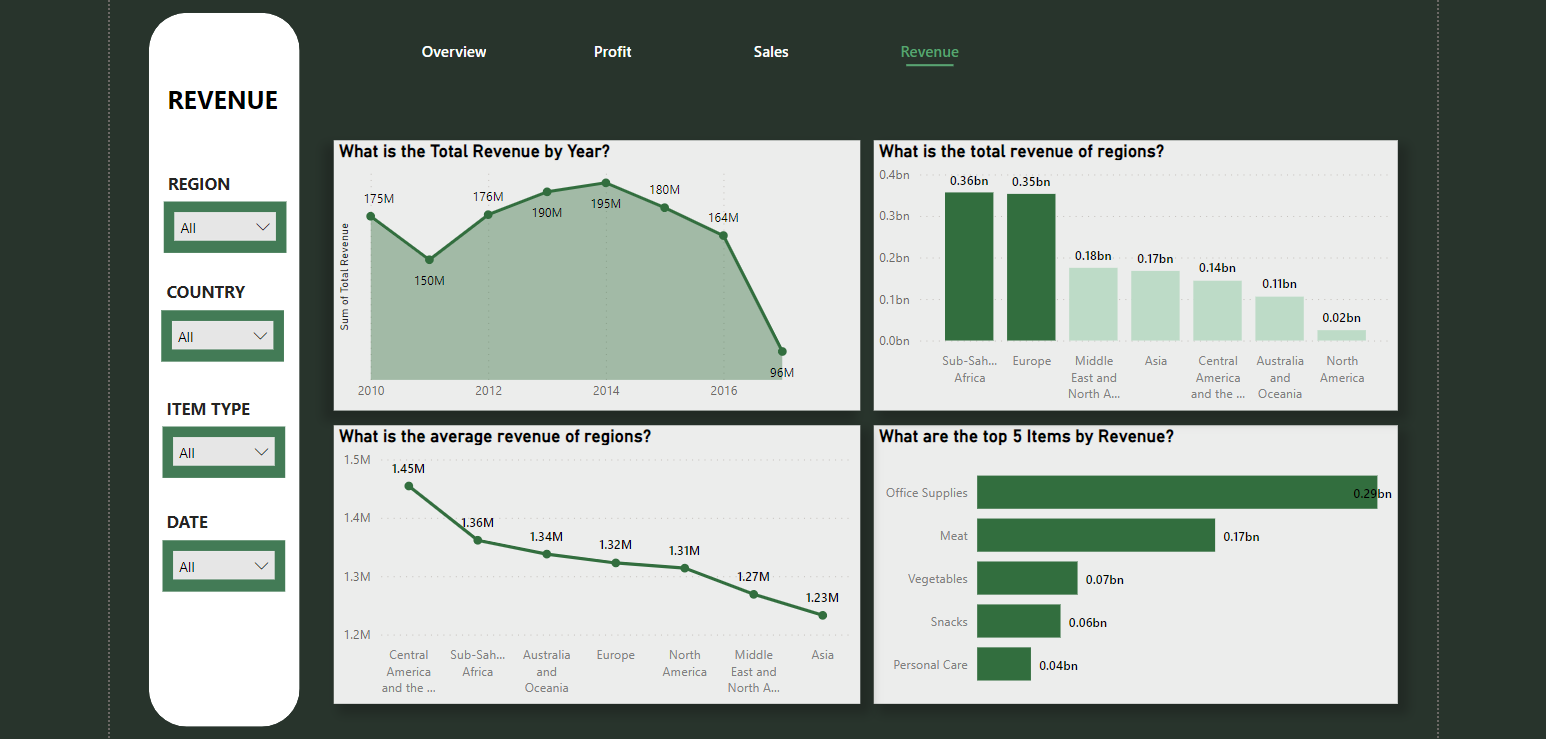

What the dashboard file says about the page in this screenshot:
{"tool":"powerbi","page":{"name":"Revenue","canvas":[1280,720],"ordinal":3},"visuals":[{"type":"pageNavigator","box":[260.7,38.4,603.8,32.9],"z":0},{"type":"shape","box":[768.4,54.9,45.3,26.1],"z":1000},{"type":"barChart","title":"What are the top 5 Items by Revenue?","fields":{"Y":["Sum(1000 Sales Records.Total Revenue)"],"Category":["1000 Sales Records.Item Type"]},"box":[736.9,416.1,505.3,268.9],"z":3000},{"type":"areaChart","title":"What is the Total Revenue by Year?","fields":{"Y":["Sum(1000 Sales Records.Total Revenue)"],"Category":["1000 Sales Records.Order Date.Variation.Date Hierarchy.Year"]},"box":[215.9,141.1,507.7,260.5],"z":4000},{"type":"lineStackedColumnComboChart","title":"What is the total revenue of regions?","fields":{"Category":["1000 Sales Records.Region"],"Y":["Sum(1000 Sales Records.Total Revenue)"]},"box":[736.9,141.1,505.3,260.5],"z":5000},{"type":"lineStackedColumnComboChart","title":"What is the average revenue of regions?","fields":{"Category":["1000 Sales Records.Region"],"Y2":["1000 Sales Records.AVERAGE REVENUE"]},"box":[215.9,416.1,507.7,268.9],"z":6000},{"type":"shape","box":[37.4,18.1,145.9,688.6],"z":7000},{"type":"slicer","fields":{"Values":["1000 Sales Records.Region"]},"box":[51.9,200.2,118.2,49.4],"z":8000},{"type":"slicer","fields":{"Values":["1000 Sales Records.Country"]},"box":[49.5,305.6,118,49.4],"z":9000},{"type":"slicer","fields":{"Values":["1000 Sales Records.Item Type"]},"box":[50.9,416.7,118,49.4],"z":10000},{"type":"slicer","fields":{"Values":["Date.Date"]},"box":[50.9,526.5,118,49.4],"z":11000},{"type":"textbox","box":[50.7,166.4,94.1,33.8],"z":12000},{"type":"textbox","box":[49.4,271.4,94.1,33.8],"z":13000},{"type":"textbox","box":[49.4,383.5,117,33.8],"z":14000},{"type":"textbox","box":[49.4,493.3,117,33.8],"z":15000},{"type":"textbox","box":[1.2,80.8,214.7,42.2],"z":15001}]}

Visuals, with their boxes on the page's 1280x720 design canvas (x1, y1, x2, y2). These are canvas units, not pixel positions in the 1546x739 screenshot, which may show the page scaled, cropped or inside an application window:
pageNavigator: detection(261, 38, 864, 71)
shape: detection(768, 55, 814, 81)
"What are the top 5 Items by Revenue?" barChart: detection(737, 416, 1242, 685)
"What is the Total Revenue by Year?" areaChart: detection(216, 141, 724, 402)
"What is the total revenue of regions?" lineStackedColumnComboChart: detection(737, 141, 1242, 402)
"What is the average revenue of regions?" lineStackedColumnComboChart: detection(216, 416, 724, 685)
shape: detection(37, 18, 183, 707)
slicer - 1000 Sales Records.Region: detection(52, 200, 170, 250)
slicer - 1000 Sales Records.Country: detection(50, 306, 168, 355)
slicer - 1000 Sales Records.Item Type: detection(51, 417, 169, 466)
slicer - Date.Date: detection(51, 526, 169, 576)
textbox: detection(51, 166, 145, 200)
textbox: detection(49, 271, 144, 305)
textbox: detection(49, 384, 166, 417)
textbox: detection(49, 493, 166, 527)
textbox: detection(1, 81, 216, 123)
